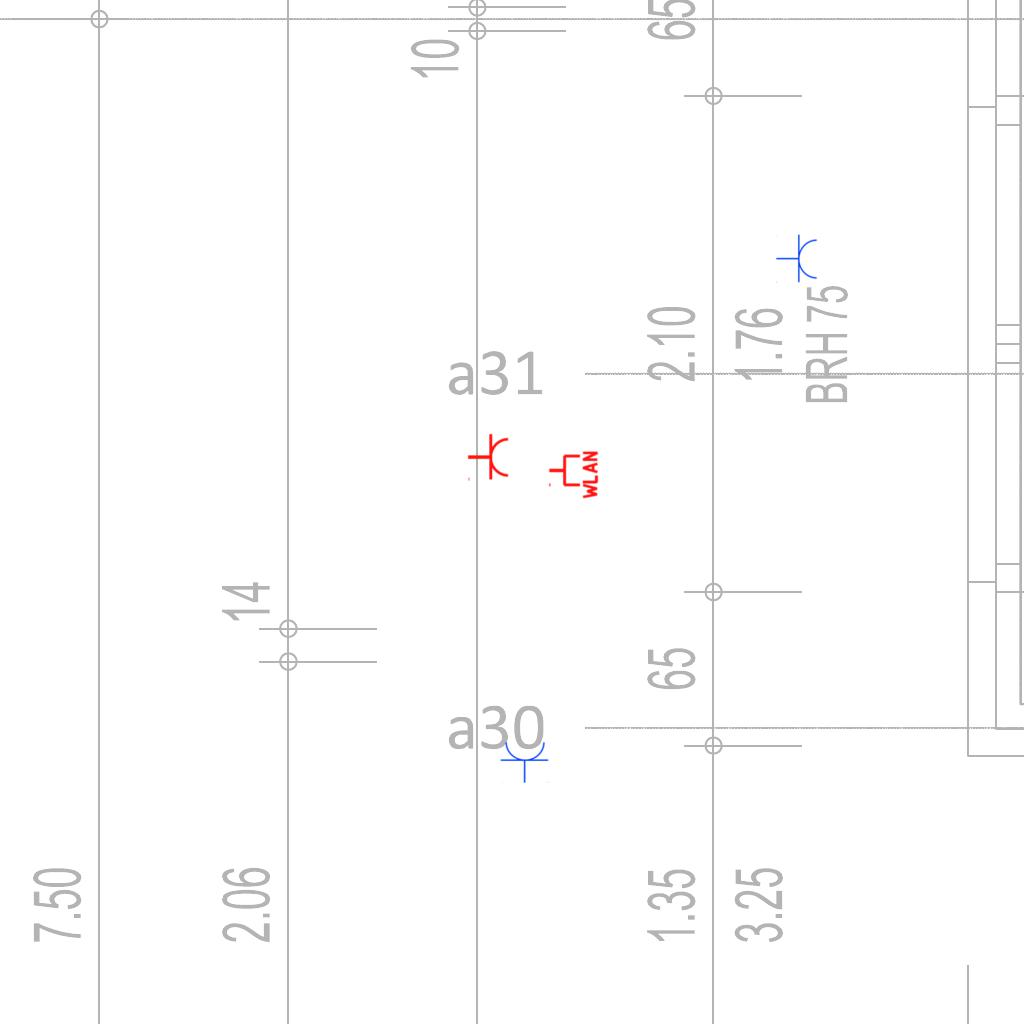Schukosteckdose_einfach: (467, 433, 510, 483), (776, 234, 819, 284), (500, 740, 550, 783)
WLAN: (547, 449, 599, 501)
